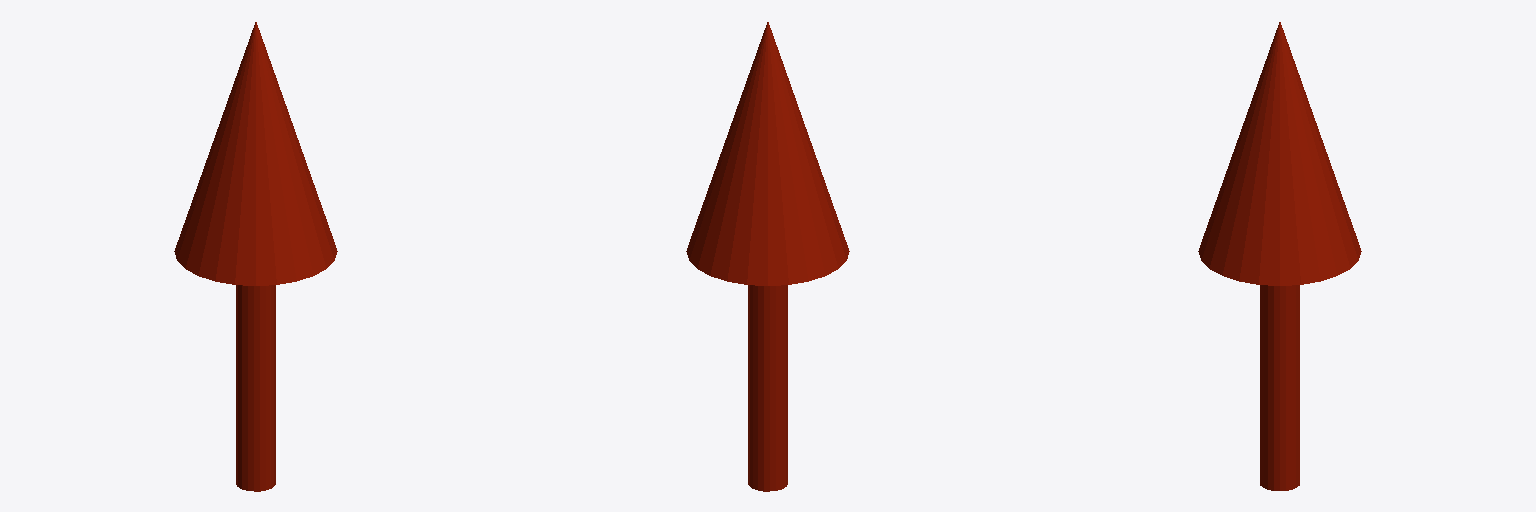
The robot description file, URDF, robot "target":
<?xml version="1.0" ?>
<robot name="target">

  <material name="red">
    <color rgba="0.63 0.15 0.05 1"/>
  </material>
  
  <link name="arrow">
    <visual>
      <origin rpy="0 0 0" xyz="0 0 0"/>
      <geometry>
  			<mesh filename="arrow_lin.stl" scale="0.4 0.4 0.5"/>
      </geometry>
      <material name = "red"/>
    </visual>
    <inertial>
      <origin rpy="0 0 0" xyz="0 0 0"/>
      <mass value="0"/>
      <inertia ixx="0" ixy="0" ixz="0" iyy="0" iyz="0" izz="0"/>
    </inertial>
  </link>

</robot>

--- Render facts (derived) ---
3 views of the same robot in one strip: view 1: azimuth 30°, elevation 25°; view 2: azimuth 150°, elevation 25°; view 3: azimuth 270°, elevation 25° (orthographic).
Robot: target — 1 links, 0 joints (none); root link arrow; default pose: all joints at 0.
Links seen in each view (by area): view 1: arrow; view 2: arrow; view 3: arrow.
Boxes of the visible links, <box> form: arrow: <box>174,22,337,491</box>; arrow: <box>686,22,849,491</box>; arrow: <box>1198,22,1361,490</box>.
Size in the robot's own frame: 0.16 by 0.16 by 0.5 metres.
Meshes: 1 distinct files referenced, 1 mesh visuals loaded (1 binary STL).
